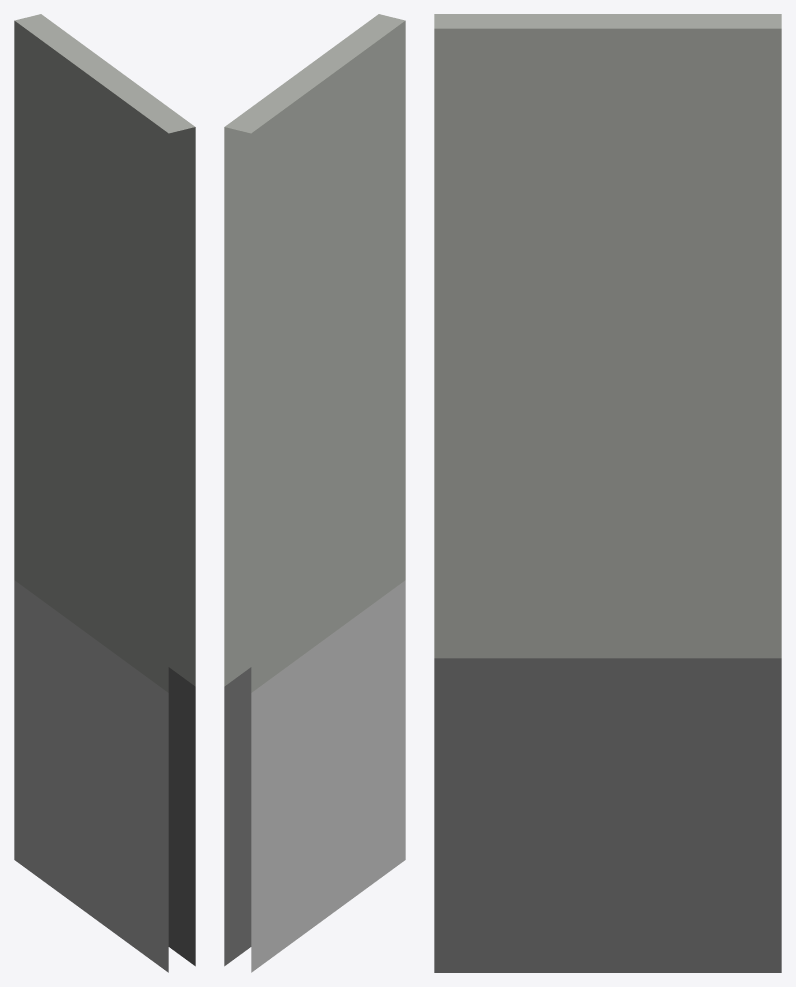
The model's file is SM_Wall_100.fbx.
3 views of the same model, side by side, from view 1: azimuth 30°, elevation 25°; view 2: azimuth 150°, elevation 25°; view 3: azimuth 270°, elevation 25° (orthographic). The views are drawn at different scales.
Parts seen in each view (by area): view 1: SM_Wall_100; view 2: SM_Wall_100; view 3: SM_Wall_100.
Boxes of the visible parts, x1,y1,x2,y2 form: SM_Wall_100: [14, 14, 195, 972]; SM_Wall_100: [224, 14, 405, 972]; SM_Wall_100: [434, 14, 781, 972].
Size of the model in its own units: 10 by 300 by 100.
